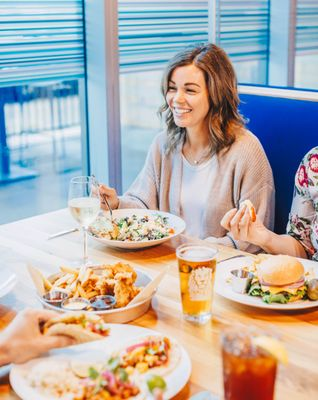pizza: (220, 325, 279, 400), (175, 244, 218, 325), (221, 348, 278, 400), (301, 259, 318, 301)
soup: (257, 255, 307, 304)
sushi: (7, 329, 193, 400), (30, 263, 164, 324), (87, 210, 187, 250)
